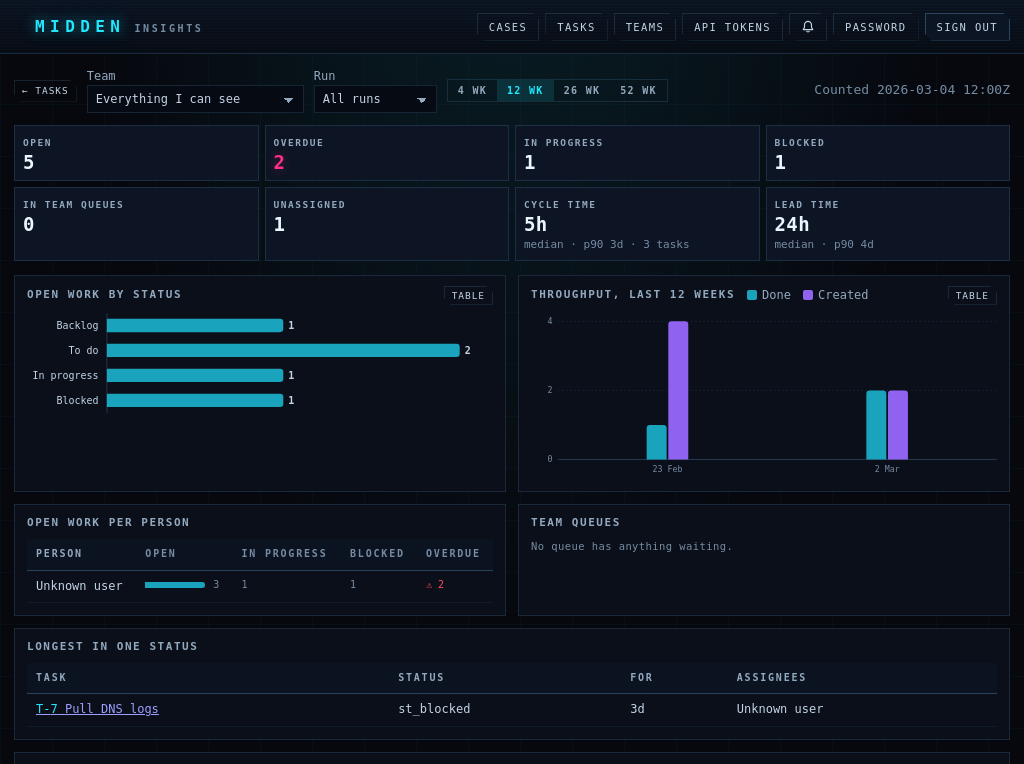
Test: insights page › shows the numbers and asks again when a filter changes
Expected: the link "T-7 Pull DNS logs" is shown, [36,702,159,716]
Expected: the text "5h" is shown, [524,213,548,235]
Click the button "4 wk" at [472, 91], box [448,80,497,101]
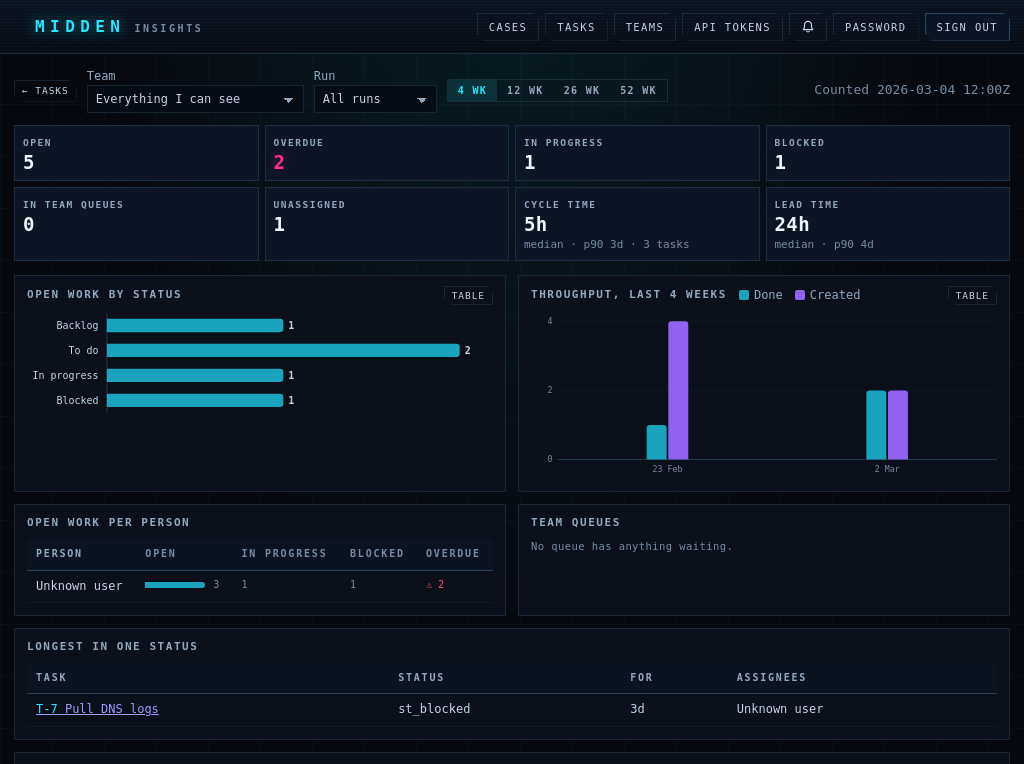
// Every chart has a table view.
Click the button "Table" next to "Created" at [972, 295], box [948,286,997,305]
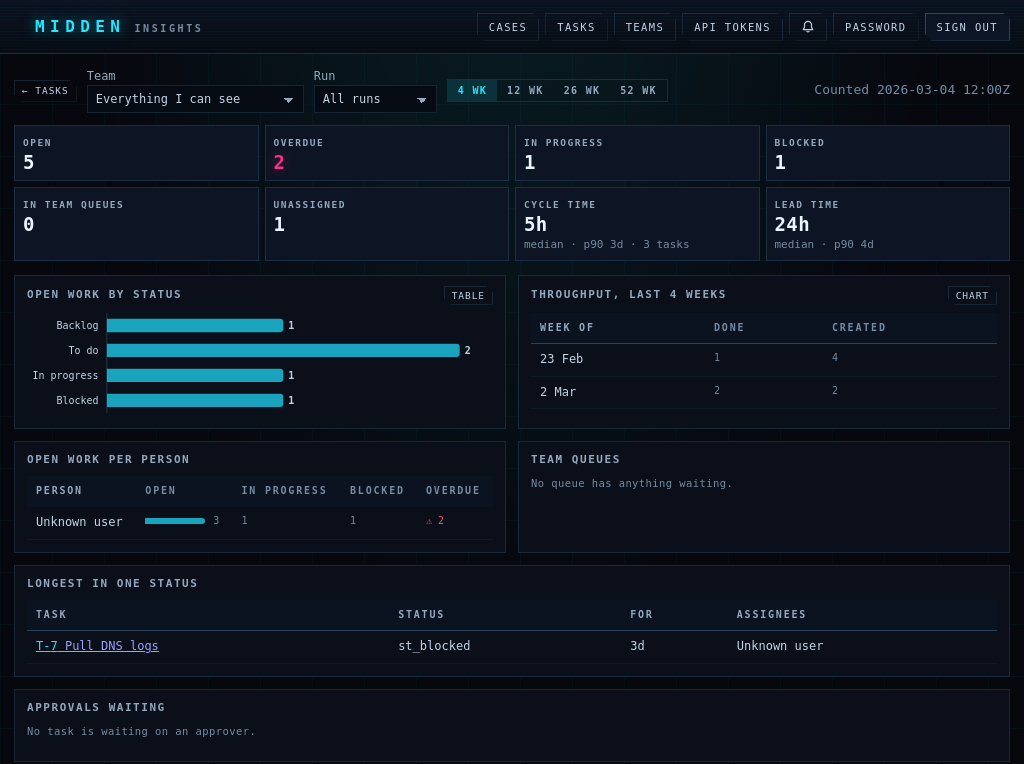
Result: the column heading "Week of" is shown at [531,313,705,344]
